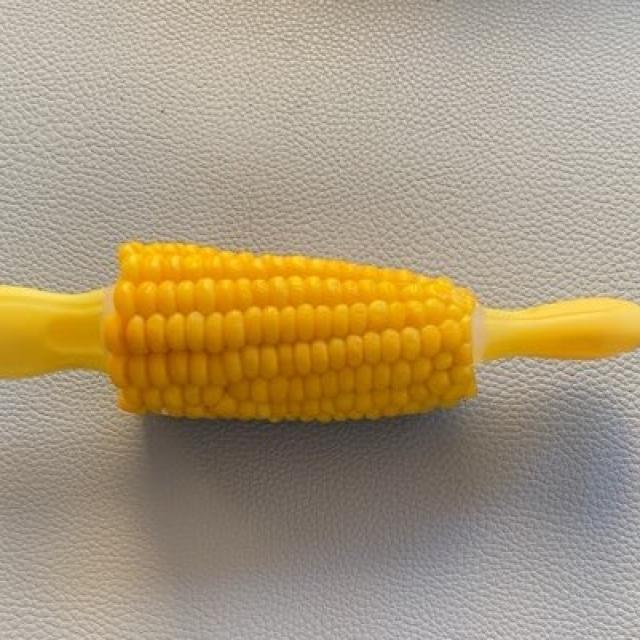corn: (108, 238, 471, 421)
